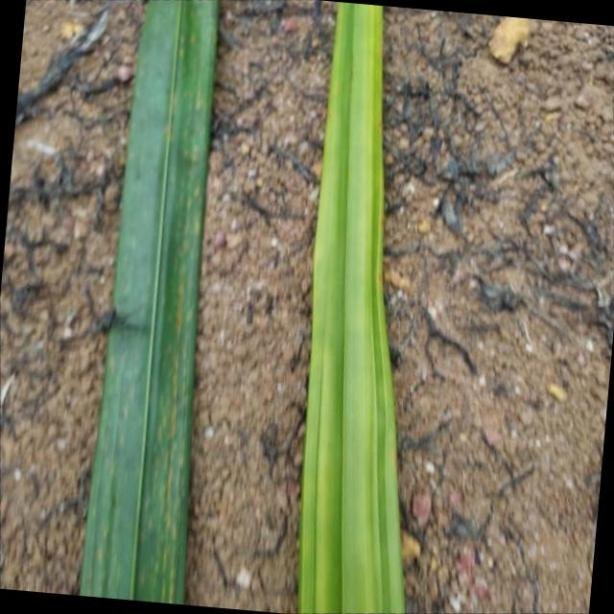nitrogen: (82, 0, 219, 614), (299, 0, 406, 614)
